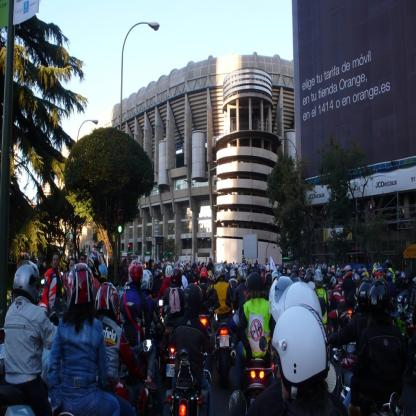Helmet: (272, 284, 332, 399), (62, 261, 101, 316), (8, 258, 43, 304), (92, 286, 129, 322), (330, 301, 346, 333), (370, 264, 393, 285), (125, 258, 142, 286), (340, 266, 357, 294), (140, 268, 156, 296), (355, 277, 370, 305), (158, 259, 172, 285), (211, 262, 230, 280), (196, 262, 211, 284), (232, 261, 244, 285), (301, 266, 317, 284), (329, 286, 345, 304), (237, 263, 244, 283)
